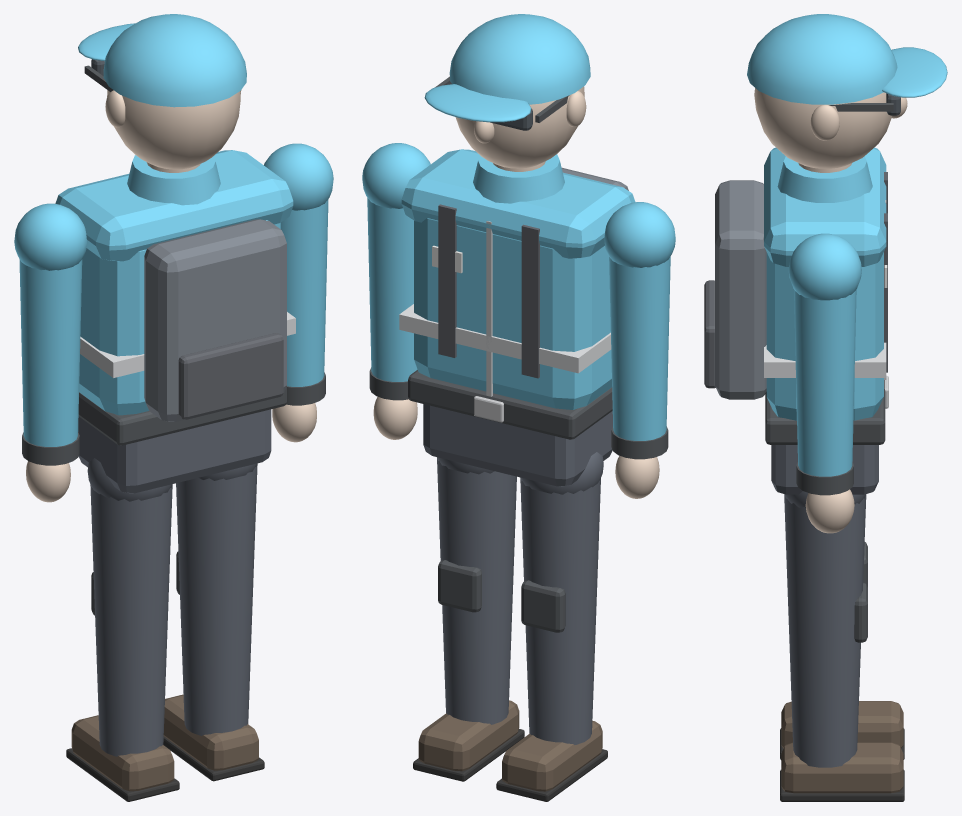
File: player.glb
3 renders of one model, left to right at view 1: azimuth 30°, elevation 25°; view 2: azimuth 150°, elevation 25°; view 3: azimuth 270°, elevation 25°, orthographic.
Visible parts, largest first — view 1: Backpack, Leg_L, Leg_R, Yoke, Cap, Arm_L, Pelvis, Torso, Arm_R, BackpackPocket, Head, Shoulder_L (+15 smaller); view 2: Torso, Leg_L, Leg_R, Yoke, Arm_L, Cap, Pelvis, Arm_R, Belt, Head, Boot_R, Boot_L (+19 smaller); view 3: Leg_R, Backpack, Cap, Arm_R, Yoke, Torso, Head, Boot_R, Shoulder_R, Collar, Pelvis, Boot_L (+11 smaller).
Boxes of the visible parts, x1,y1,x2,y2 form: Backpack: [144, 219, 286, 421]; Leg_L: [90, 485, 172, 756]; Leg_R: [176, 464, 257, 735]; Yoke: [55, 150, 293, 261]; Cap: [103, 14, 246, 107]; Arm_L: [19, 259, 82, 446]; Pelvis: [78, 409, 271, 493]; Torso: [79, 220, 280, 415]; Arm_R: [280, 199, 328, 386]; BackpackPocket: [178, 333, 283, 419]; Head: [107, 90, 240, 169]; Shoulder_L: [14, 203, 87, 270]; Torso: [414, 218, 611, 409]; Leg_L: [520, 478, 600, 744]; Leg_R: [437, 458, 516, 724]; Yoke: [401, 149, 635, 258]; Arm_L: [609, 257, 670, 440]; Cap: [449, 14, 590, 104]; Pelvis: [423, 404, 612, 486]; Arm_R: [367, 198, 417, 381]; Belt: [408, 370, 612, 439]; Head: [455, 86, 584, 168]; Boot_R: [418, 700, 519, 771]; Boot_L: [502, 720, 602, 791]; Leg_R: [784, 494, 866, 767]; Backpack: [715, 180, 766, 399]; Cap: [747, 14, 897, 104]; Arm_R: [794, 289, 856, 476]; Yoke: [764, 147, 886, 266]; Torso: [766, 252, 883, 420]; Head: [754, 88, 892, 168]; Boot_R: [781, 742, 903, 793]; Shoulder_R: [788, 233, 861, 300]; Collar: [777, 156, 872, 202]; Pelvis: [771, 445, 878, 494]; Boot_L: [781, 701, 903, 748].
Size of the model in its own units: 0.7285 by 1.68 by 0.497.
